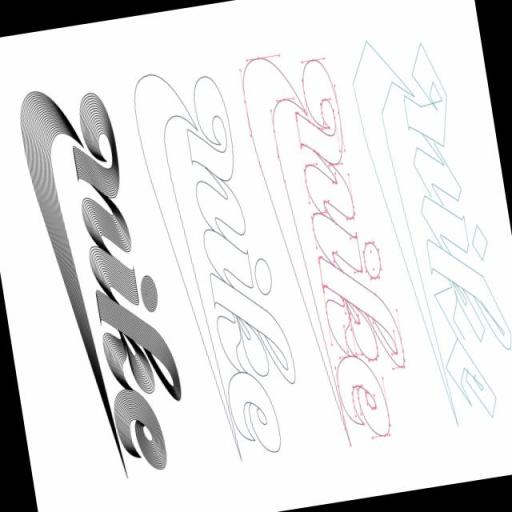Nike: (234, 52, 346, 450), (68, 136, 191, 474)
